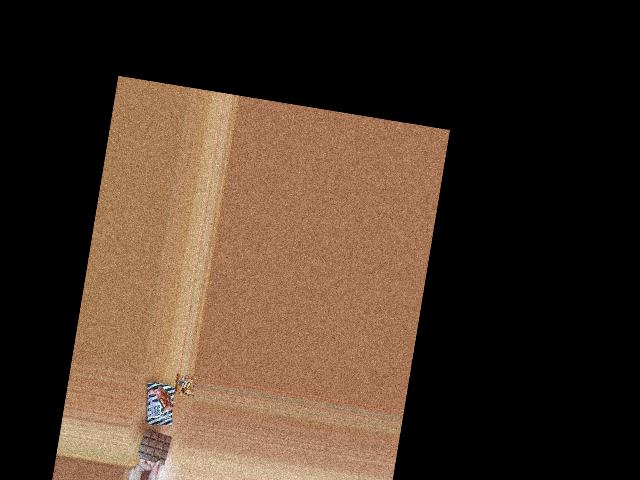chocolate: (141, 379, 177, 429)
